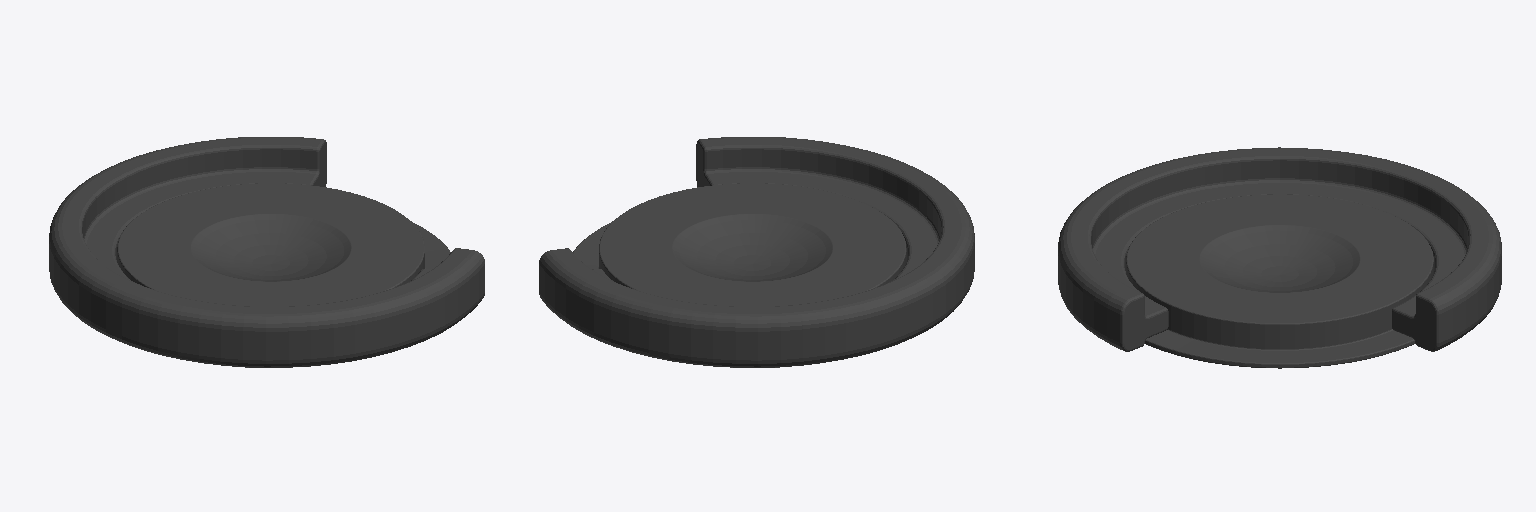
Rendered from JM_MaterialPreview_03.obj.
The picture shows the model from 3 angles: view 1: azimuth 30°, elevation 25°; view 2: azimuth 150°, elevation 25°; view 3: azimuth 270°, elevation 25°; orthographic projection.
Visible parts, largest first — view 1: Sphere.002_Sphere.001; view 2: Sphere.002_Sphere.001; view 3: Sphere.002_Sphere.001.
Boxes of the visible parts, <box> form: Sphere.002_Sphere.001: <box>49,137,484,367</box>; Sphere.002_Sphere.001: <box>539,137,974,367</box>; Sphere.002_Sphere.001: <box>1058,147,1501,368</box>.
Bounding box in the file's own units: 2.14 × 0.3035 × 2.32.